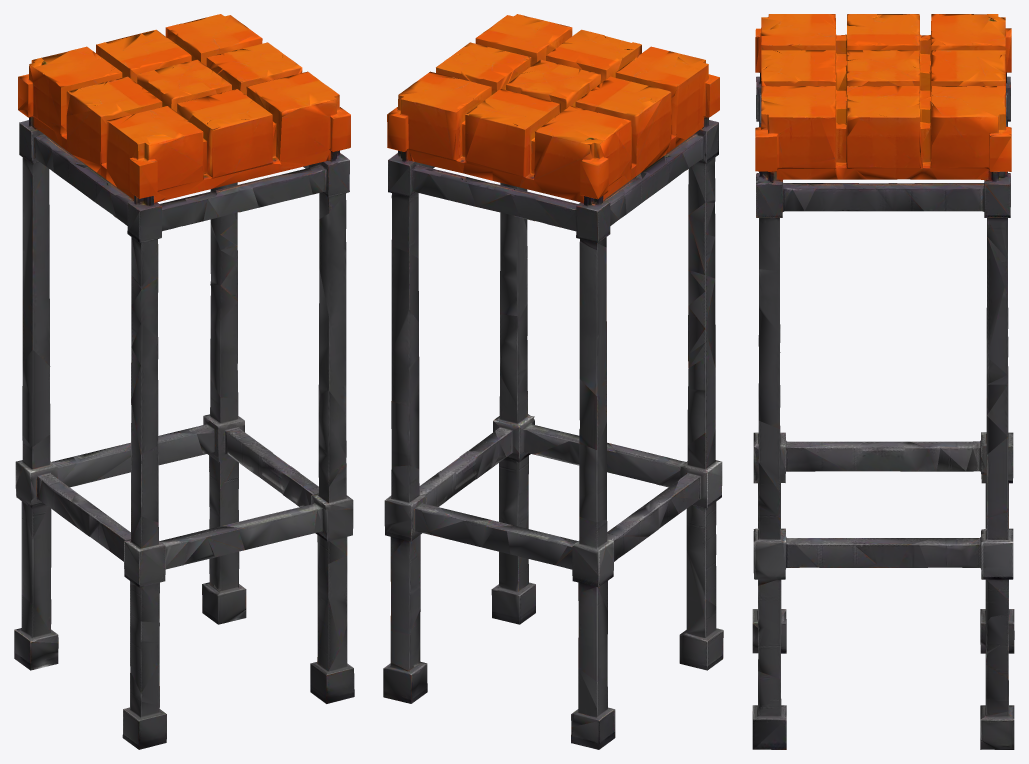
Rendered from orange_bar_stool.glb.
The picture shows the model from 3 angles, left to right: view 1: azimuth 30°, elevation 25°; view 2: azimuth 150°, elevation 25°; view 3: azimuth 270°, elevation 25°; orthographic projection. The views are drawn at different scales.
Size of the model in its own units: 0.7544 by 2 by 0.7547.
Materials: 1 (1 with a texture image).
